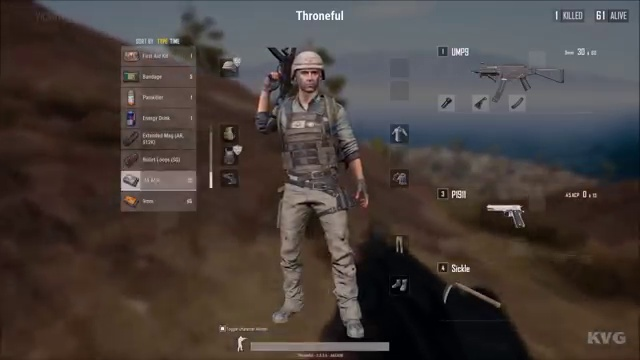Player: (256, 43, 372, 319)
